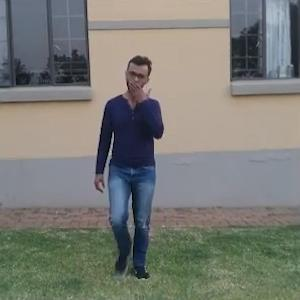follow: (106, 57, 168, 256)
